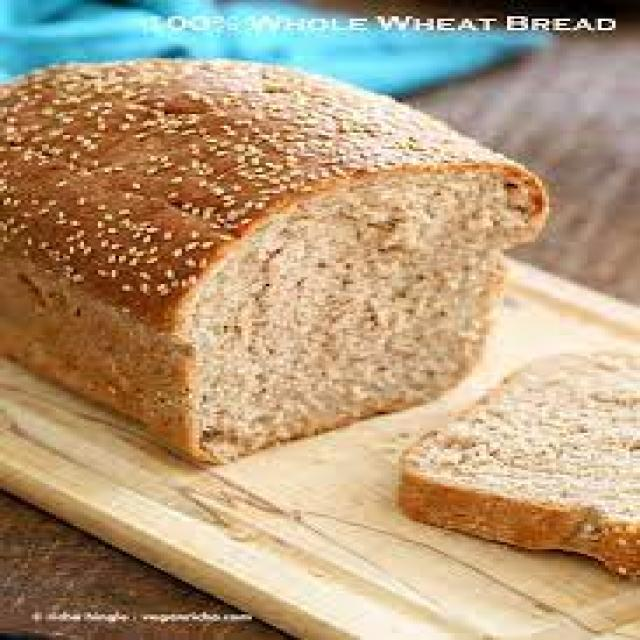bread: (0, 62, 547, 464)
